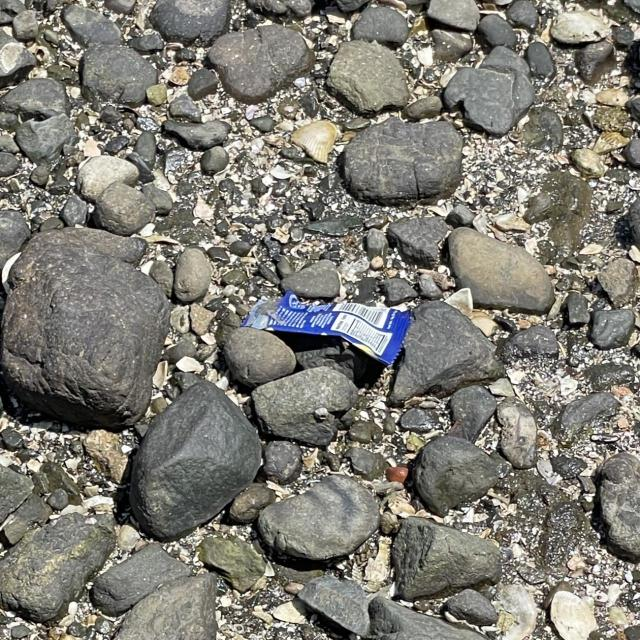plastic_waste: (243, 291, 417, 365)
